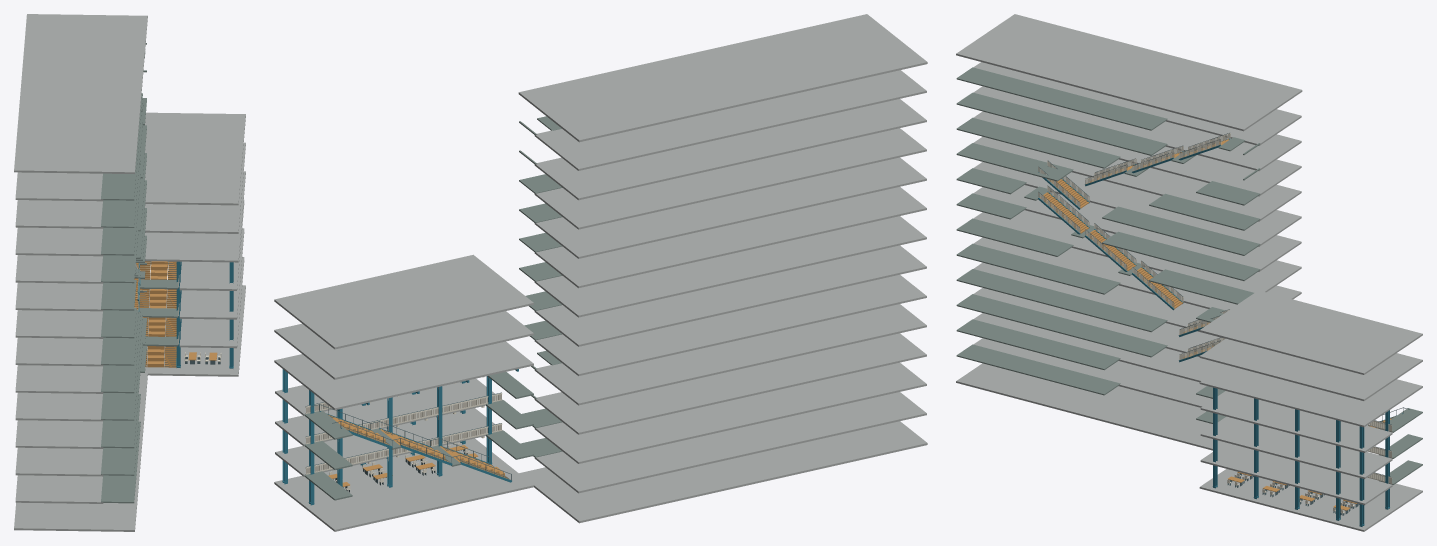
File: cbg-interior-17c76c95e8db.glb
The picture shows the model from 3 angles, left to right: view 1: azimuth 30°, elevation 25°; view 2: azimuth 150°, elevation 25°; view 3: azimuth 270°, elevation 25°; orthographic projection. The views are drawn at different scales.
Parts seen in each view (by area): view 1: CBG.001; view 2: CBG.001; view 3: CBG.001.
Part boxes in pixels (<box>): CBG.001: <box>14,14,245,531</box>; CBG.001: <box>274,14,927,531</box>; CBG.001: <box>956,14,1422,531</box>.
Size of the model in its own units: 64.55 by 52.47 by 67.42.
